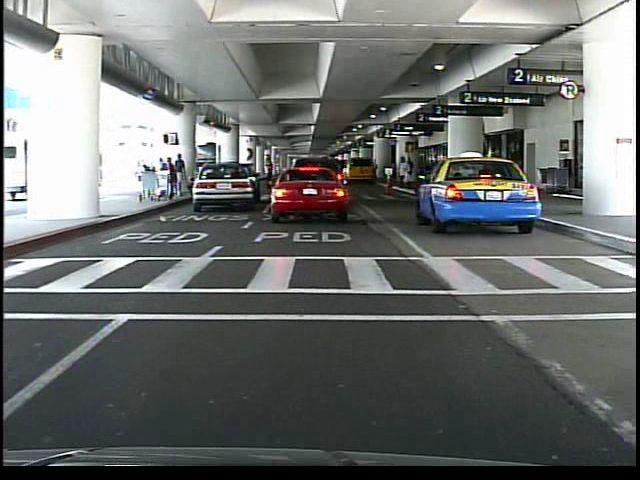person: (330, 156, 344, 202), (177, 153, 190, 198), (396, 156, 411, 192), (265, 156, 278, 188), (315, 166, 326, 202), (411, 156, 412, 190)
